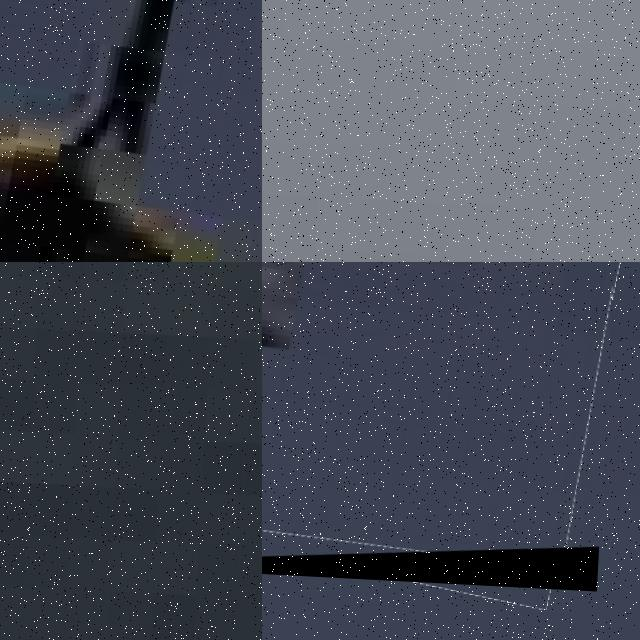drone: (262, 262, 619, 591), (0, 0, 262, 262)
